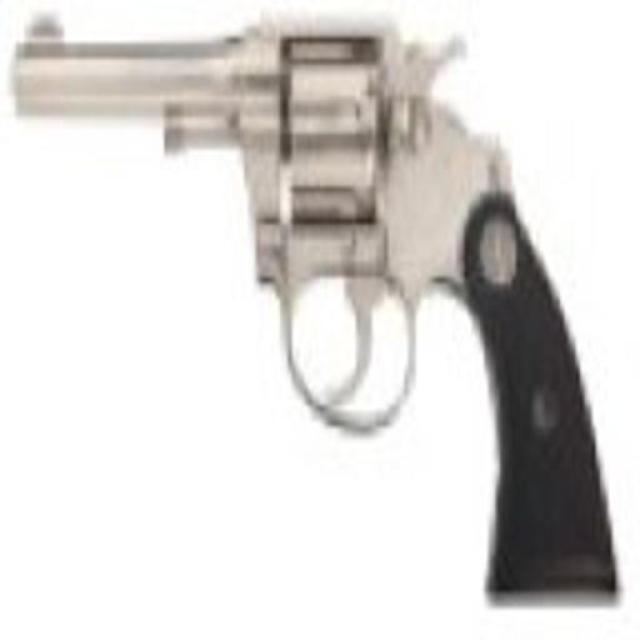pistol: (11, 15, 615, 602)
